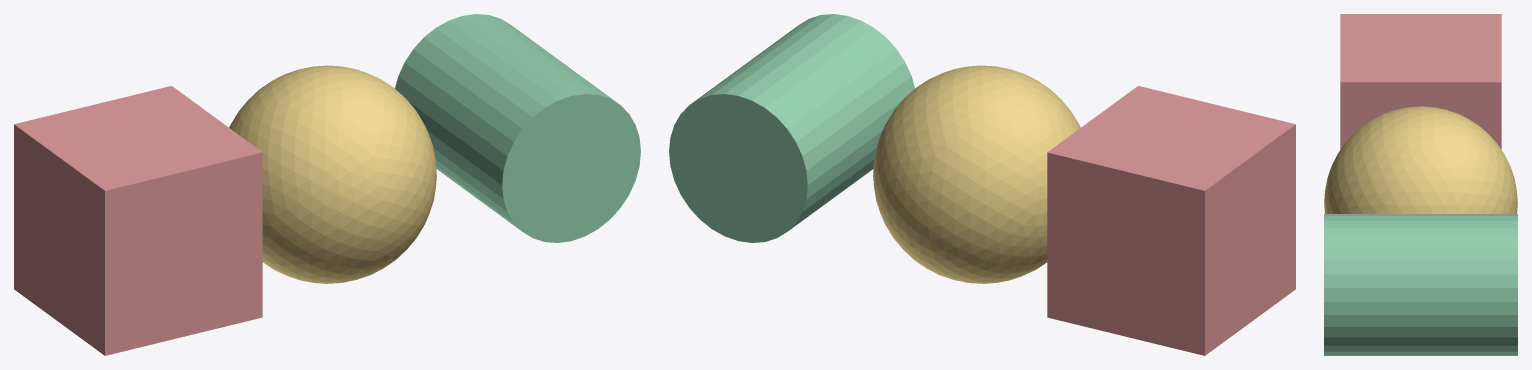
File: multi-material.glb
3 views of the same model, side by side, from view 1: azimuth 30°, elevation 25°; view 2: azimuth 150°, elevation 25°; view 3: azimuth 270°, elevation 25° (orthographic). The views are drawn at different scales.
Visible parts, largest first — view 1: world; view 2: world; view 3: world.
Boxes of the visible parts, x1,y1,x2,y2 form: world: (14,14,640,355); world: (669,14,1295,355); world: (1324,14,1517,355).
Bounding box in the file's own units: 1.67 × 0.6 × 0.6.
